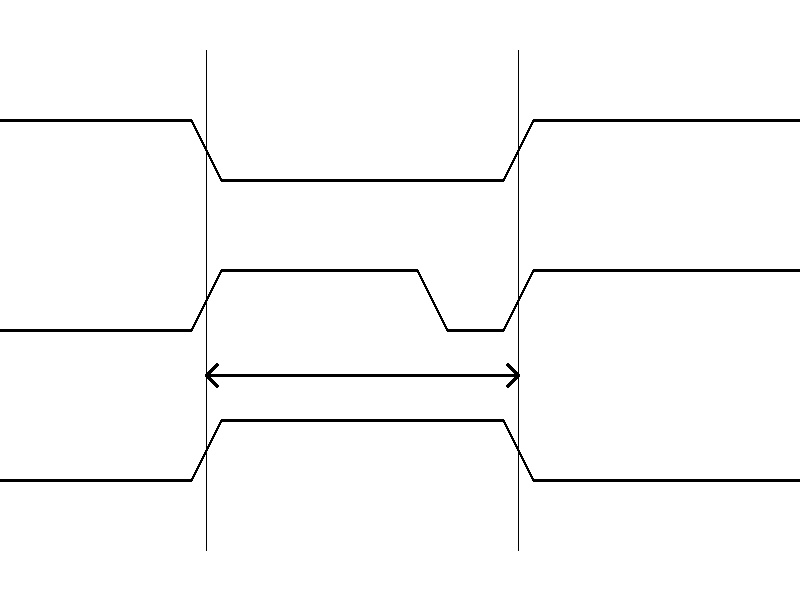double_arrow: (206, 360, 518, 390)
